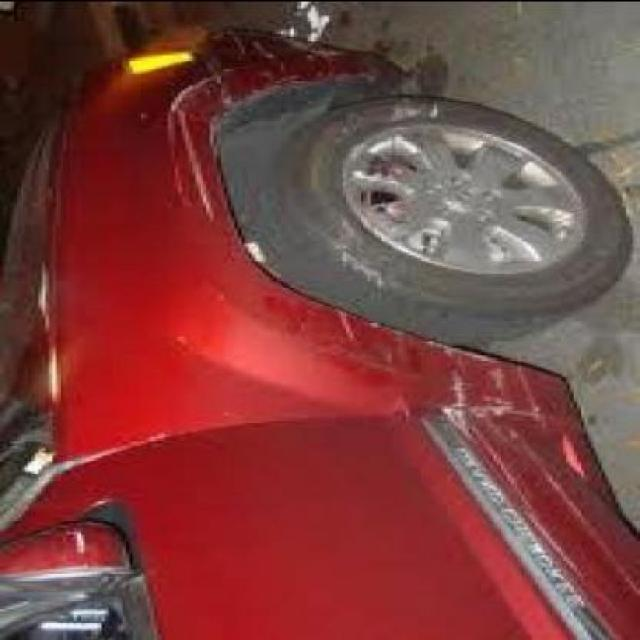damage: (269, 305, 630, 589), (161, 29, 386, 220)
